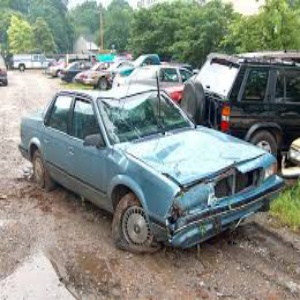bonnet: (138, 133, 260, 171)
front_windshield_glass: (97, 93, 190, 131)
